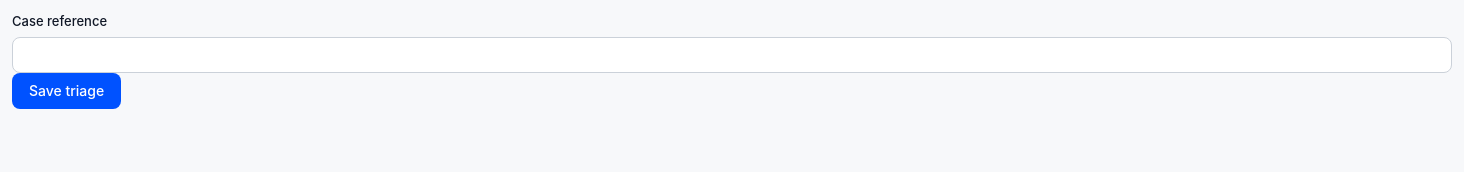
Zod 4 validation & React Hook Form resolver compatibility › integrates zodResolver cleanly with React Hook Form and accessible Input errors
Later steps or results of the test are not shown.
Click the button "Save triage": (67, 91) [12,73,121,109]
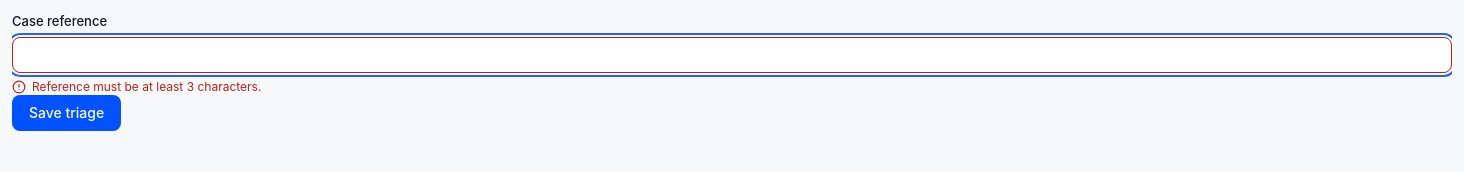
Expected: the text "Reference must be at least 3 characters." is shown, [32,79,261,95]
